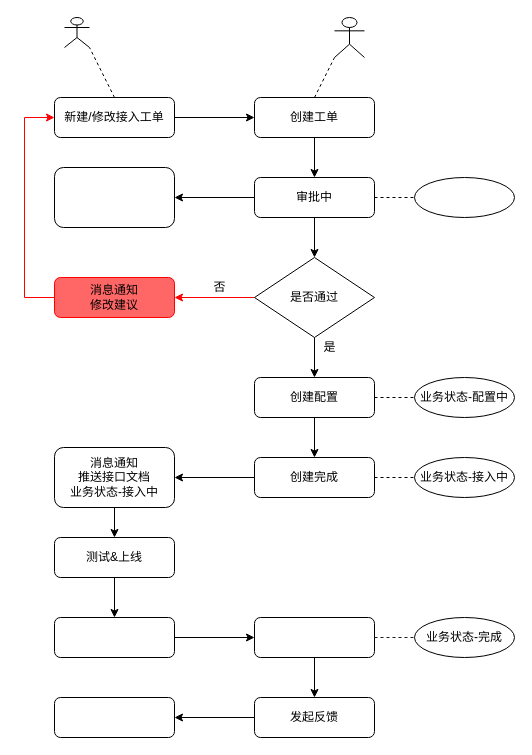
Some shapes in this 532 by 755 pixel diagram are drawn without their labels. The centre of each missing label's shape, as x and y in pixels:
业务方: the point at 77,32
业务状态-申请中/修改中: the point at 464,197
完成反馈: the point at 114,717
平台: the point at 349,37
接入完成: the point at 114,637
更新业务状态: the point at 314,637
消息通知 推送接口文档 业务状态-审批中: the point at 114,197
